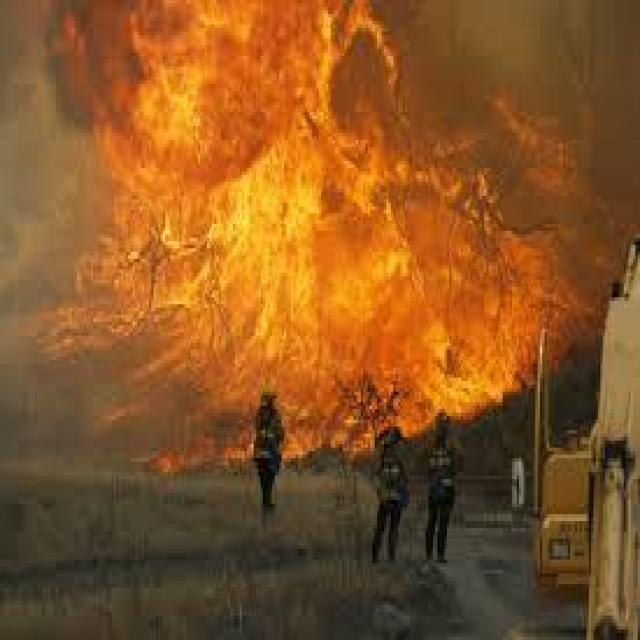Fire: (102, 14, 421, 393), (336, 202, 556, 402)
Smoke: (402, 13, 616, 186)
